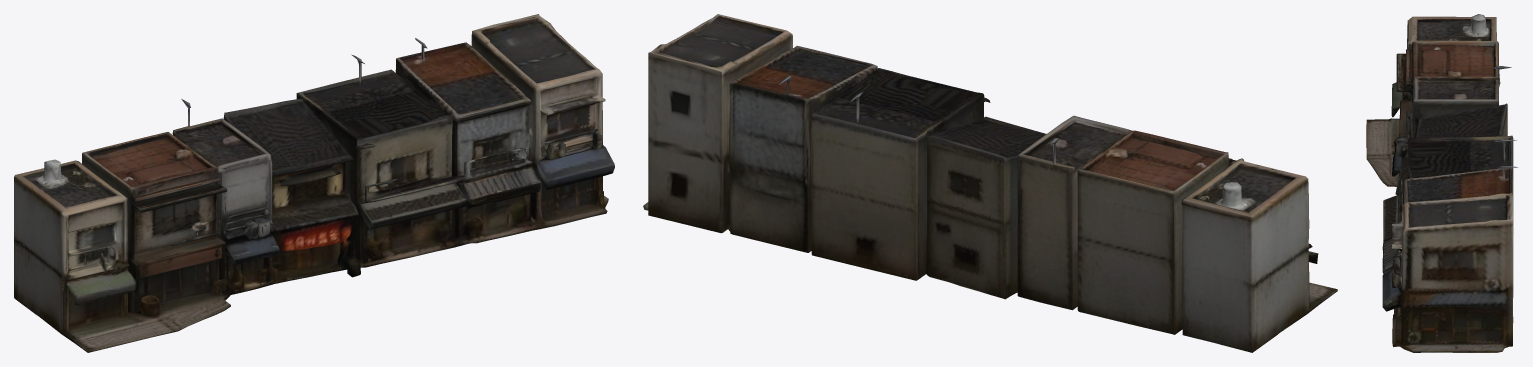
The model's file is soto.glb.
3 views of the same model, side by side, from view 1: azimuth 30°, elevation 25°; view 2: azimuth 150°, elevation 25°; view 3: azimuth 270°, elevation 25° (orthographic). The views are drawn at different scales.
Parts seen in each view (by area): view 1: tripo_node_d4b0b24a-850c-4525-b338-b65ff1b687dc; view 2: tripo_node_d4b0b24a-850c-4525-b338-b65ff1b687dc; view 3: tripo_node_d4b0b24a-850c-4525-b338-b65ff1b687dc.
Boxes of the visible parts, <box> form: tripo_node_d4b0b24a-850c-4525-b338-b65ff1b687dc: <box>14,14,614,352</box>; tripo_node_d4b0b24a-850c-4525-b338-b65ff1b687dc: <box>643,14,1337,352</box>; tripo_node_d4b0b24a-850c-4525-b338-b65ff1b687dc: <box>1366,14,1517,352</box>.
Bounding box in the file's own units: 1 × 0.2661 × 0.2791.
1 material, 1 textured.
